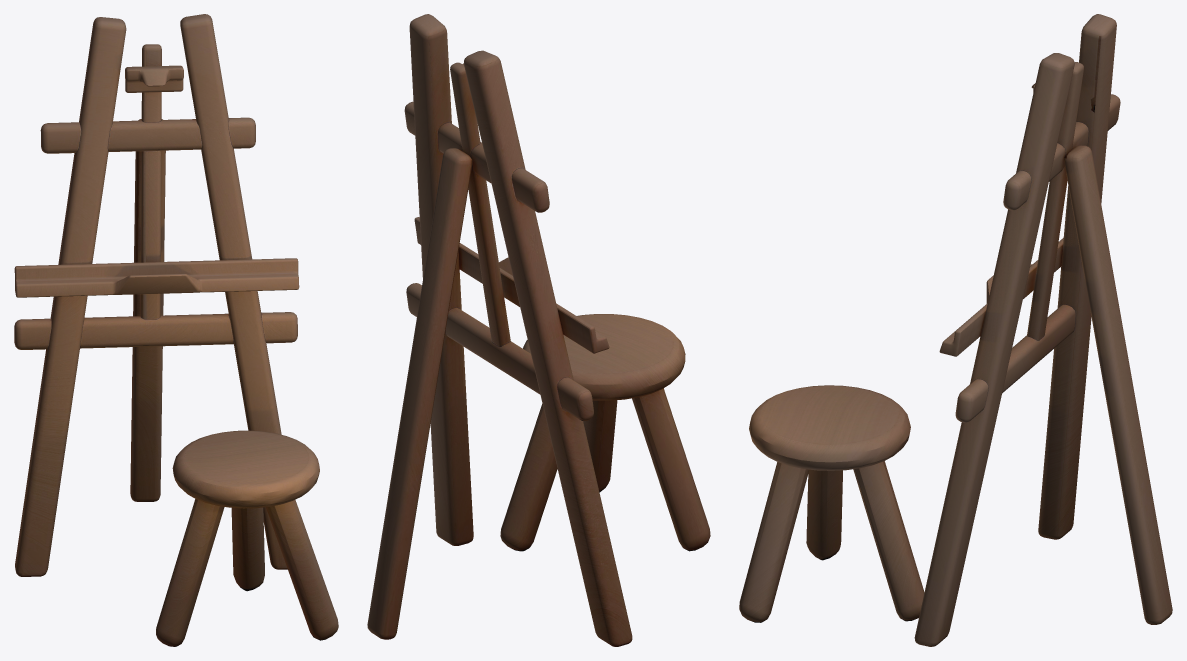
3 renders of one model, left to right at view 1: azimuth 30°, elevation 25°; view 2: azimuth 150°, elevation 25°; view 3: azimuth 270°, elevation 25°, orthographic. The views are drawn at different scales.
Parts seen in each view (by area): view 1: Easel, Stool; view 2: Easel, Stool; view 3: Easel, Stool.
Boxes of the visible parts, bbox=[...] form: Easel: bbox=[14, 14, 299, 576]; Stool: bbox=[156, 430, 338, 646]; Easel: bbox=[367, 14, 632, 646]; Stool: bbox=[500, 314, 710, 551]; Easel: bbox=[914, 14, 1172, 646]; Stool: bbox=[739, 385, 924, 622].
Size of the model in its own units: 0.7139 by 1.48 by 1.01.
Materials: 1 (1 with a texture image).
